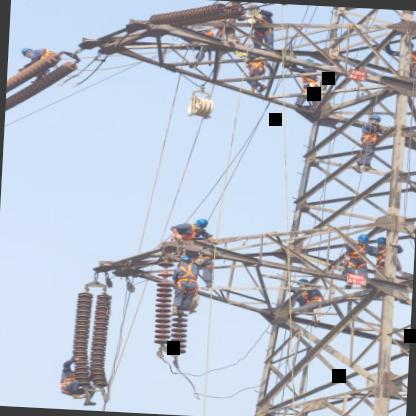helmet: (192, 216, 211, 233), (178, 254, 196, 269), (14, 46, 36, 58), (368, 112, 384, 126), (352, 232, 368, 245), (374, 235, 390, 248), (224, 0, 242, 6)
